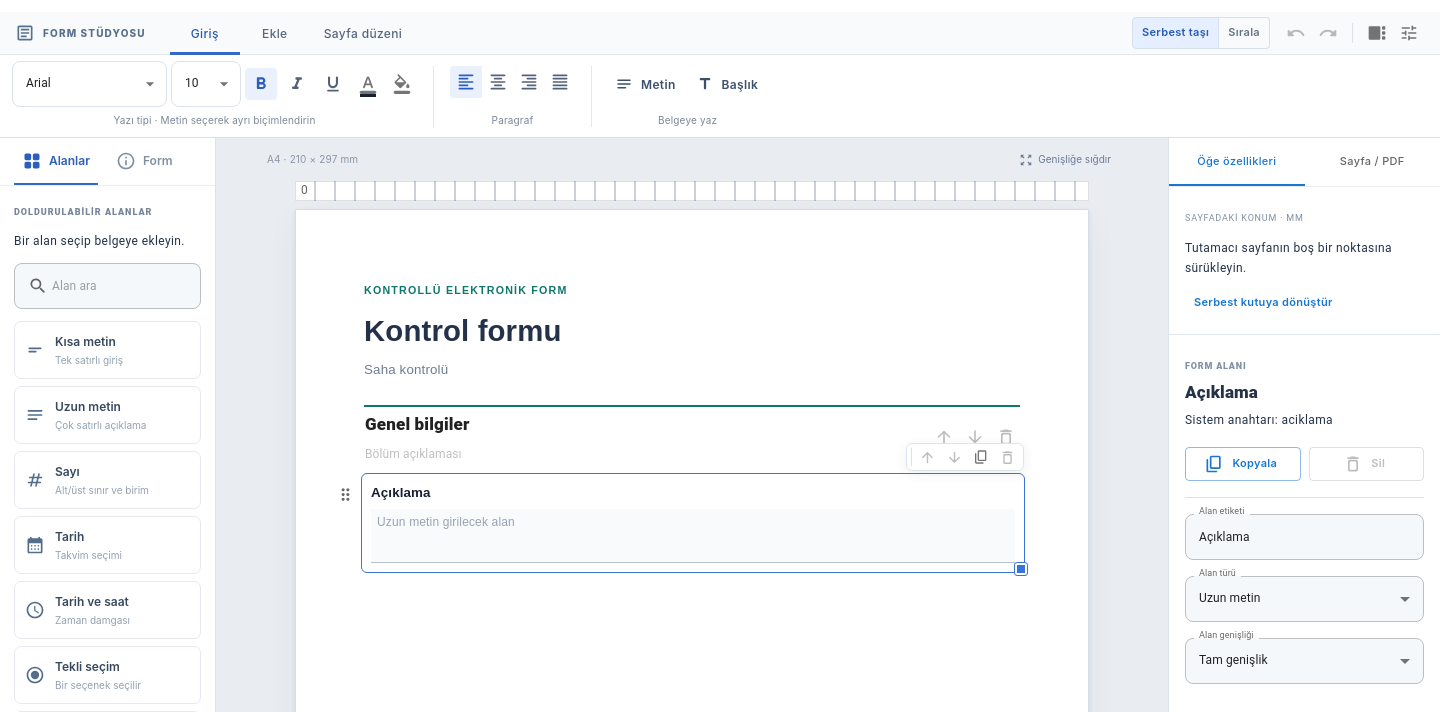
it: AdvancedFormDesigner › renames and duplicates the selected canvas field
The width and height of the screenshot is (1452, 712).
Step 1. Replace the text in the field labelled "Alan etiketi" with "Kontrol notu" → coordinates (1304, 537), box left=1185, top=520, right=1424, bottom=554
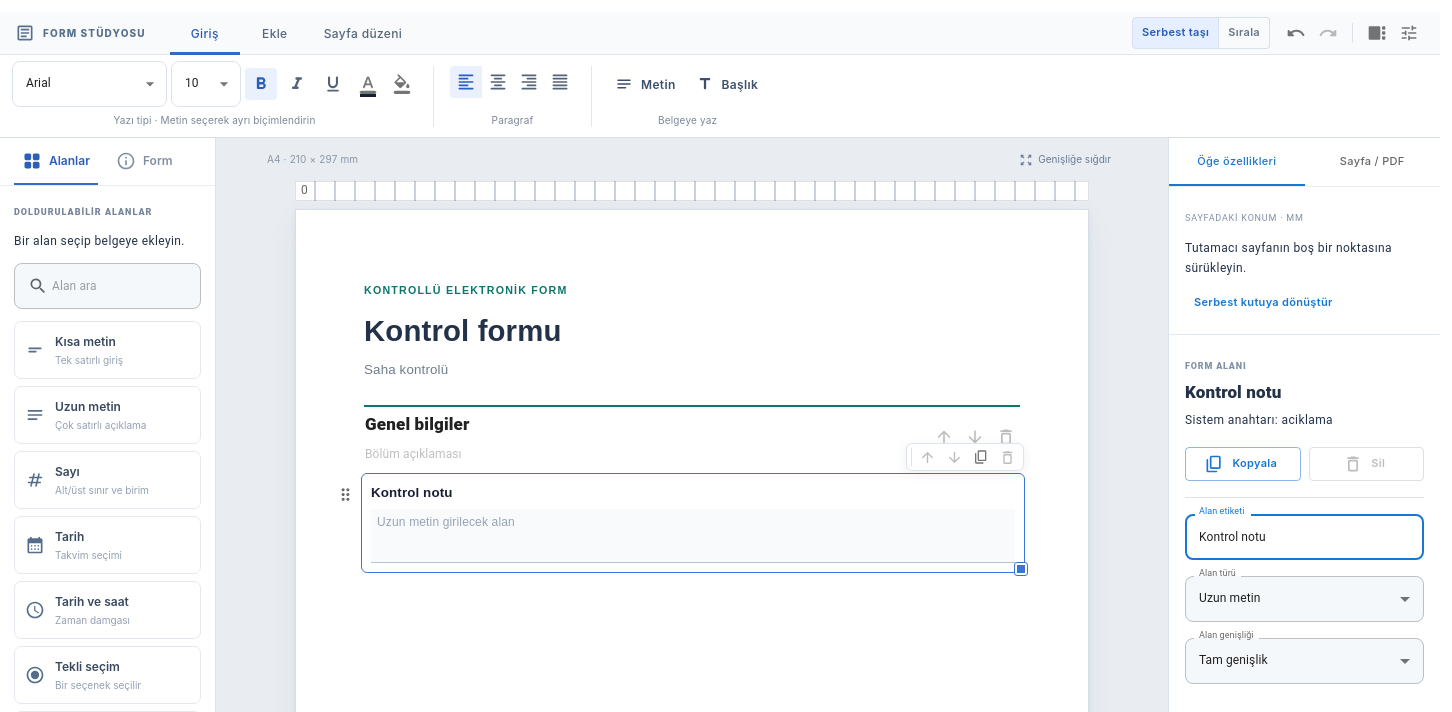
Expected: the text "Kontrol notu" is shown, left=371, top=483, right=452, bottom=503
Step 2. Click the button "Kopyala" → coordinates (1243, 464), box left=1185, top=447, right=1300, bottom=481
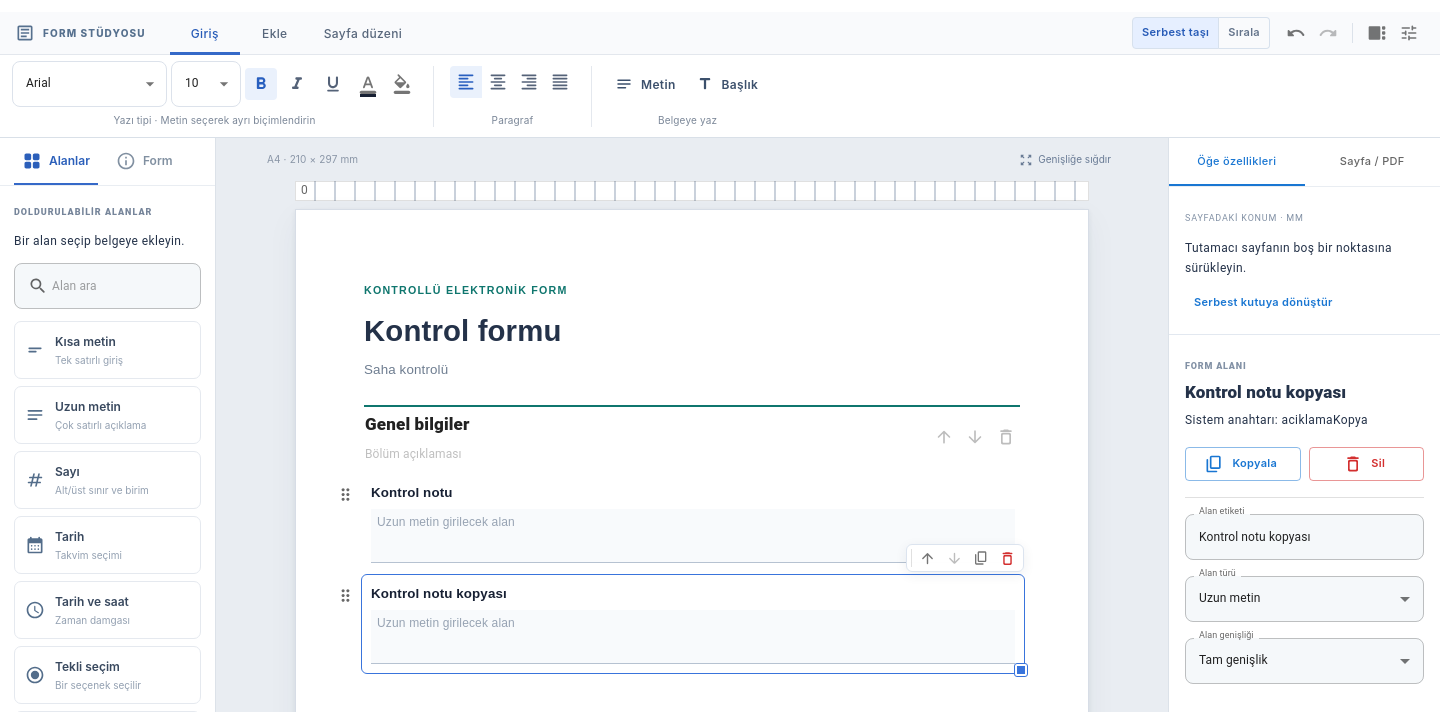
Expected: the text "Kontrol notu kopyası" is shown, left=371, top=584, right=507, bottom=604
